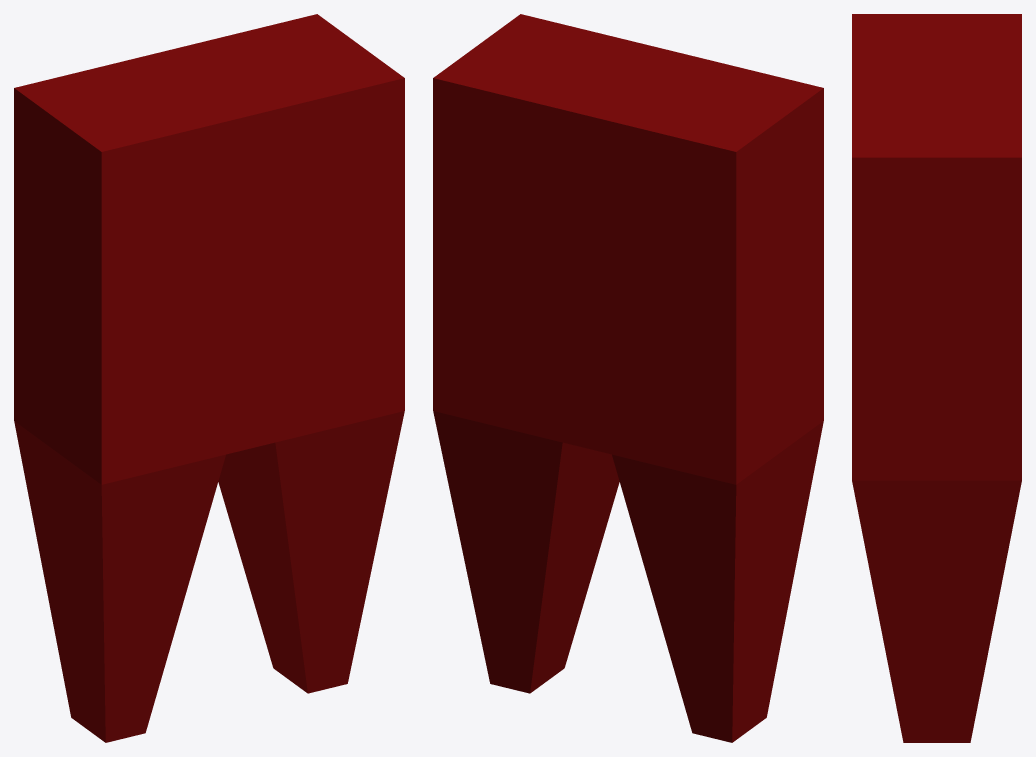
Rendered from Red_Guy.glb.
3 renders of one model, left to right at view 1: azimuth 30°, elevation 25°; view 2: azimuth 150°, elevation 25°; view 3: azimuth 270°, elevation 25°, orthographic. The views are drawn at different scales.
Visible parts, largest first — view 1: Cube; view 2: Cube; view 3: Cube.
Part boxes in pixels (<box>): Cube: <box>14,14,404,742</box>; Cube: <box>433,14,823,742</box>; Cube: <box>852,14,1021,742</box>.
Size of the model in its own units: 0.858 by 1.67 by 0.429.
